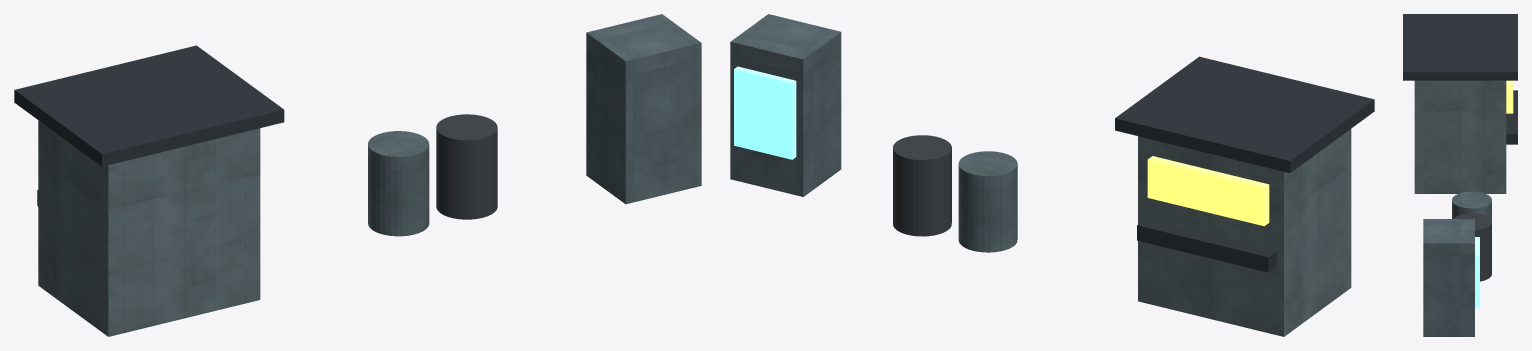
The model's file is decor-props-b.glb.
3 renders of one model, left to right at view 1: azimuth 30°, elevation 25°; view 2: azimuth 150°, elevation 25°; view 3: azimuth 270°, elevation 25°, orthographic. The views are drawn at different scales.
Visible parts, largest first — view 1: DecorPropsB; view 2: DecorPropsB; view 3: DecorPropsB.
Boxes of the visible parts, x1=… form: DecorPropsB: x1=14, y1=14, x2=701, y2=336; DecorPropsB: x1=730, y1=14, x2=1374, y2=336; DecorPropsB: x1=1403, y1=14, x2=1517, y2=336.
Size of the model in its own units: 0.81 by 0.243 by 0.2.
6 materials, 2 textured.
